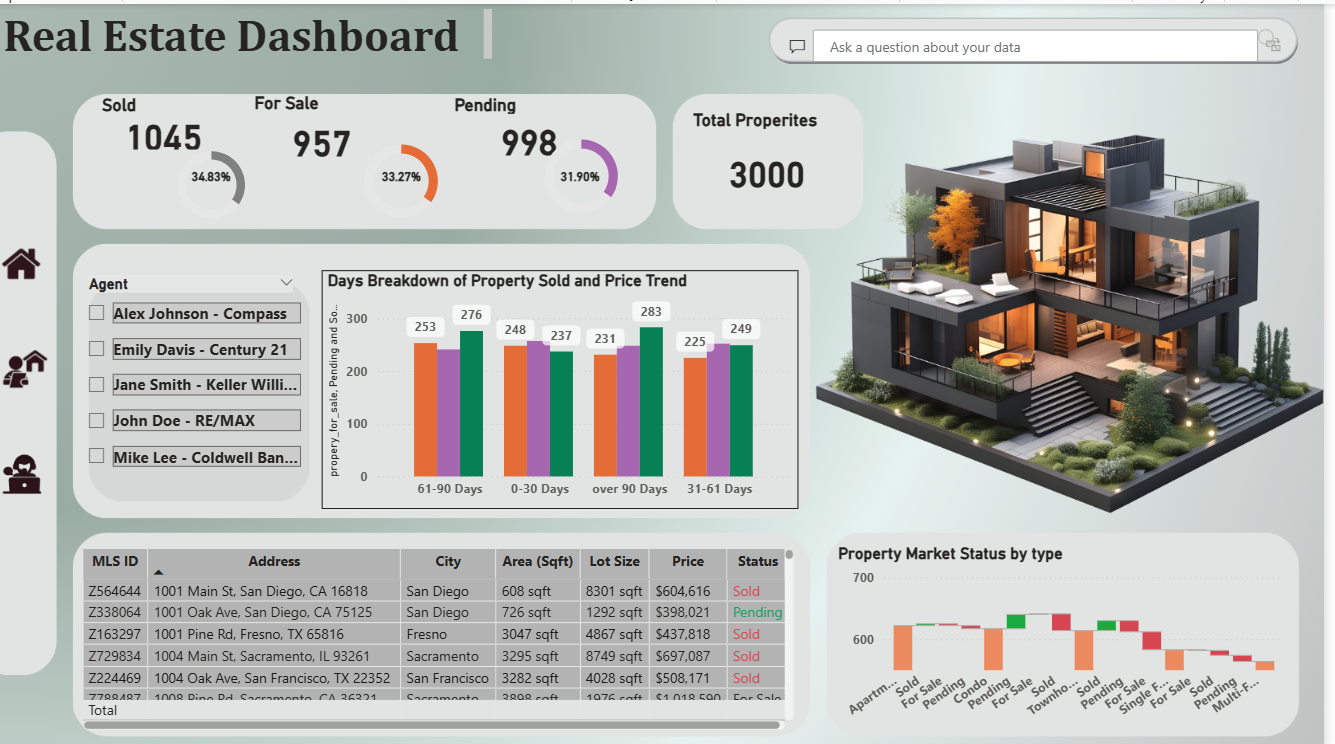

The dashboard page shown, as its layout file describes it:
{"tool":"powerbi","page":{"name":"Page 1","canvas":[1280,720],"ordinal":0},"visuals":[{"type":"card","title":"Sold","fields":{"Values":["RealEstate_Dataset.Sold"]},"box":[95.7,87.1,130,58.6],"z":0},{"type":"card","title":"Total Properites","fields":{"Values":["RealEstate_Dataset.Total_properties"]},"box":[665.7,101.4,152.9,100],"z":1000},{"type":"card","title":"For Sale","fields":{"Values":["RealEstate_Dataset.propery_for_sale"]},"box":[242.9,85.7,140,72.9],"z":2000},{"type":"card","title":"Pending","fields":{"Values":["RealEstate_Dataset.Pending"]},"box":[435.7,87.1,154.3,67.1],"z":3000},{"type":"textbox","box":[0,0,482,59],"z":4000},{"type":"card","fields":{"Values":["RealEstate_Dataset.% properties_sold"]},"box":[170,142.9,71.4,52.9],"z":5000},{"type":"card","fields":{"Values":["RealEstate_Dataset.%properties_for_sale"]},"box":[512.9,151.4,98.6,22.9],"z":6000},{"type":"card","fields":{"Values":["RealEstate_Dataset.%properties_pending"]},"box":[344.3,145.7,91.4,44.3],"z":7000},{"type":"donutChart","fields":{"Category":["RealEstate_Dataset.Status"],"Y":["RealEstate_Dataset.Status"]},"box":[150,128.6,112.9,91.4],"z":8000},{"type":"donutChart","fields":{"Category":["RealEstate_Dataset.Status"],"Y":["RealEstate_Dataset.Status"]},"box":[325.7,121.4,127.1,98.6],"z":9000},{"type":"donutChart","fields":{"Category":["RealEstate_Dataset.Status"],"Y":["RealEstate_Dataset.Status"]},"box":[500,117.1,127.1,98.6],"z":10000},{"type":"lineClusteredColumnComboChart","title":" Days Breakdown of Property Sold and Price Trend","fields":{"Category":["RealEstate_Dataset.Days_on_market_category"],"Y":["RealEstate_Dataset.propery_for_sale","RealEstate_Dataset.Pending","RealEstate_Dataset.Sold"]},"box":[312.9,257.1,460,230],"z":11000},{"type":"tableEx","fields":{"Values":["RealEstate_Dataset.MLS ID","RealEstate_Dataset.Address","RealEstate_Dataset.City","RealEstate_Dataset.Area (Sqft)","RealEstate_Dataset.Lot Size","RealEstate_Dataset.Price","RealEstate_Dataset.Status"]},"box":[75.7,521.4,697.1,184.3],"z":12000},{"type":"waterfallChart","title":" Property Market Status by type","fields":{"Category":["RealEstate_Dataset.Property Type"],"Breakdown":["RealEstate_Dataset.Status"],"Y":["RealEstate_Dataset.Status"]},"box":[805.7,521.4,440,178.6],"z":13000},{"type":"slicer","fields":{"Values":["RealEstate_Dataset.Listing Agent"]},"box":[74.3,257.1,222.9,214.3],"z":14000},{"type":"qnaVisual","box":[755,0,491.2,58.8],"z":14001}]}

Visuals, with their boxes in screenshot pixels (x1, y1, x2, y2), scaled from the page's 1280x720 canvas onto the 1335x744 screenshot:
"Sold" card: {"x1": 100, "y1": 90, "x2": 235, "y2": 151}
"Total Properites" card: {"x1": 694, "y1": 105, "x2": 854, "y2": 208}
"For Sale" card: {"x1": 253, "y1": 89, "x2": 399, "y2": 164}
"Pending" card: {"x1": 454, "y1": 90, "x2": 615, "y2": 159}
textbox: {"x1": 0, "y1": 0, "x2": 503, "y2": 61}
card - RealEstate_Dataset.% properties_sold: {"x1": 177, "y1": 148, "x2": 252, "y2": 202}
card - RealEstate_Dataset.%properties_for_sale: {"x1": 535, "y1": 156, "x2": 638, "y2": 180}
card - RealEstate_Dataset.%properties_pending: {"x1": 359, "y1": 151, "x2": 454, "y2": 196}
donutChart - RealEstate_Dataset.Status x RealEstate_Dataset.Status: {"x1": 156, "y1": 133, "x2": 274, "y2": 227}
donutChart - RealEstate_Dataset.Status x RealEstate_Dataset.Status: {"x1": 340, "y1": 125, "x2": 472, "y2": 227}
donutChart - RealEstate_Dataset.Status x RealEstate_Dataset.Status: {"x1": 521, "y1": 121, "x2": 654, "y2": 223}
" Days Breakdown of Property Sold and Price Trend" lineClusteredColumnComboChart: {"x1": 326, "y1": 266, "x2": 806, "y2": 503}
tableEx - RealEstate_Dataset.MLS ID x RealEstate_Dataset.Address: {"x1": 79, "y1": 539, "x2": 806, "y2": 729}
" Property Market Status by type" waterfallChart: {"x1": 840, "y1": 539, "x2": 1299, "y2": 723}
slicer - RealEstate_Dataset.Listing Agent: {"x1": 77, "y1": 266, "x2": 310, "y2": 487}
qnaVisual: {"x1": 787, "y1": 0, "x2": 1300, "y2": 61}
